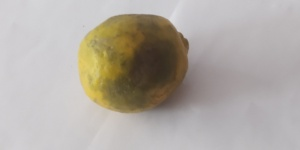BAD: (80, 14, 191, 114)
